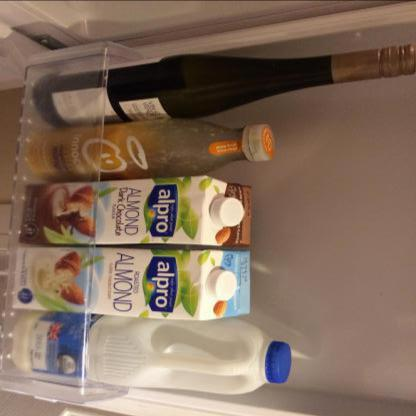Bottle: (265, 340, 291, 383), (211, 197, 244, 227), (249, 124, 275, 162), (388, 42, 415, 78), (206, 269, 237, 300)
Bottle cap: (32, 43, 416, 128), (12, 310, 291, 395), (26, 118, 275, 183)
Carton: (12, 245, 251, 320), (19, 175, 251, 247)
